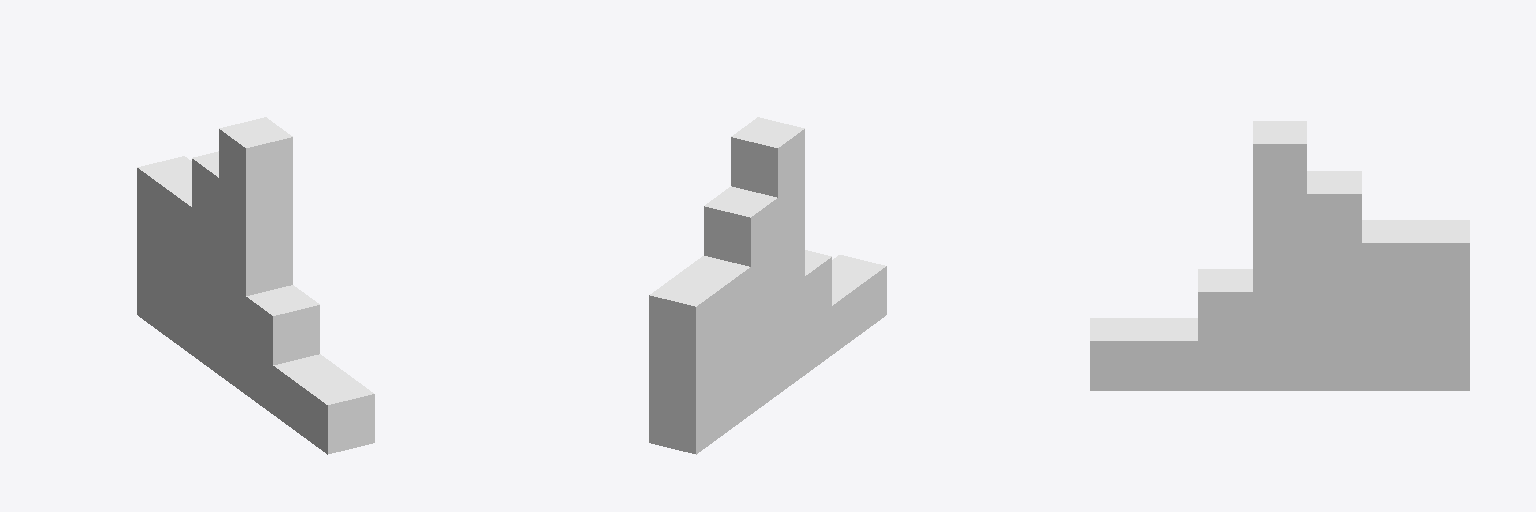
File: YellowHouseParts-20.obj
3 views of the same model, side by side, from view 1: azimuth 30°, elevation 25°; view 2: azimuth 150°, elevation 25°; view 3: azimuth 270°, elevation 25° (orthographic).
Visible parts, largest first — view 1: object 1; view 2: object 1; view 3: object 1.
Part boxes in pixels (left/top/right/bottom): object 1: left=137, top=117, right=374, bottom=454; object 1: left=649, top=117, right=886, bottom=454; object 1: left=1090, top=121, right=1469, bottom=390.
Size of the model in its own units: 0.1 by 0.5 by 0.7.